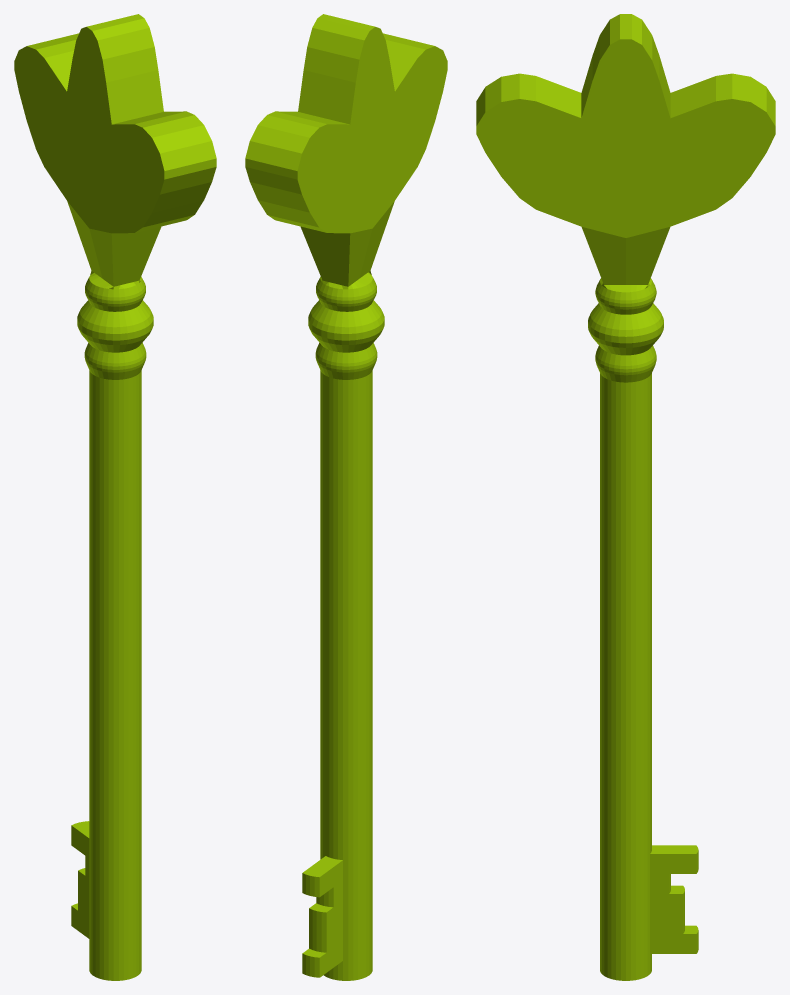
The model's file is key.obj.
3 renders of one model, left to right at view 1: azimuth 30°, elevation 25°; view 2: azimuth 150°, elevation 25°; view 3: azimuth 270°, elevation 25°, orthographic.
Parts seen in each view (by area): view 1: Cylinder; view 2: Cylinder; view 3: Cylinder.
Part boxes in pixels (bbox=[...]): Cylinder: bbox=[14, 14, 216, 980]; Cylinder: bbox=[245, 14, 447, 980]; Cylinder: bbox=[476, 14, 775, 980].
Bounding box in the file's own units: 0.4447 × 6.08 × 1.75.
